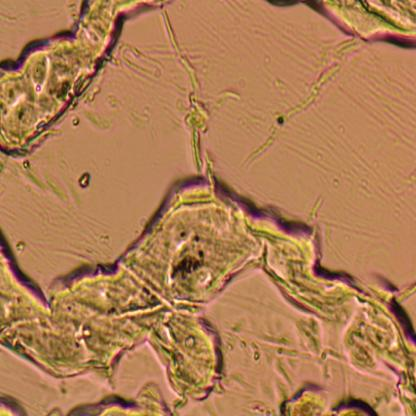Normal: (0, 233, 416, 416)
